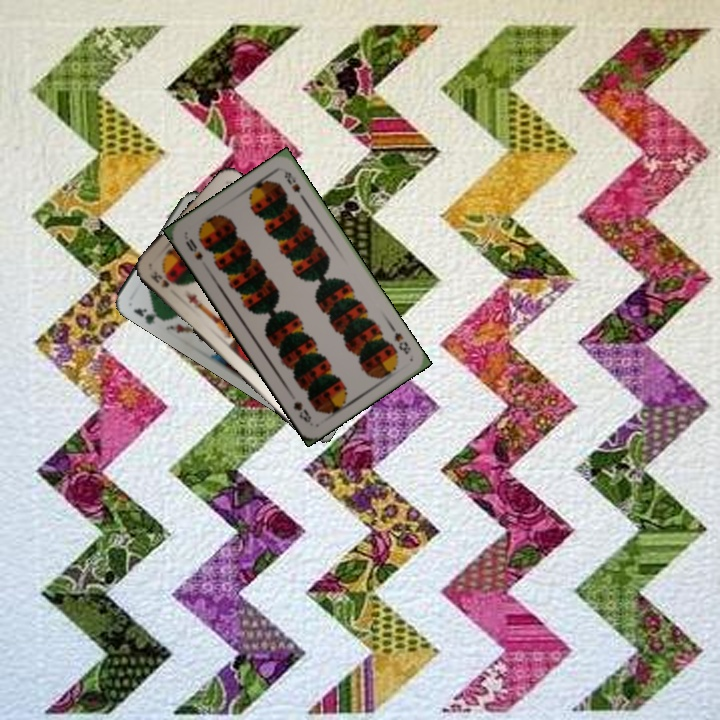GK: (129, 304, 164, 327)
S8: (386, 322, 413, 357), (181, 234, 205, 263)
SK: (146, 267, 172, 291)
